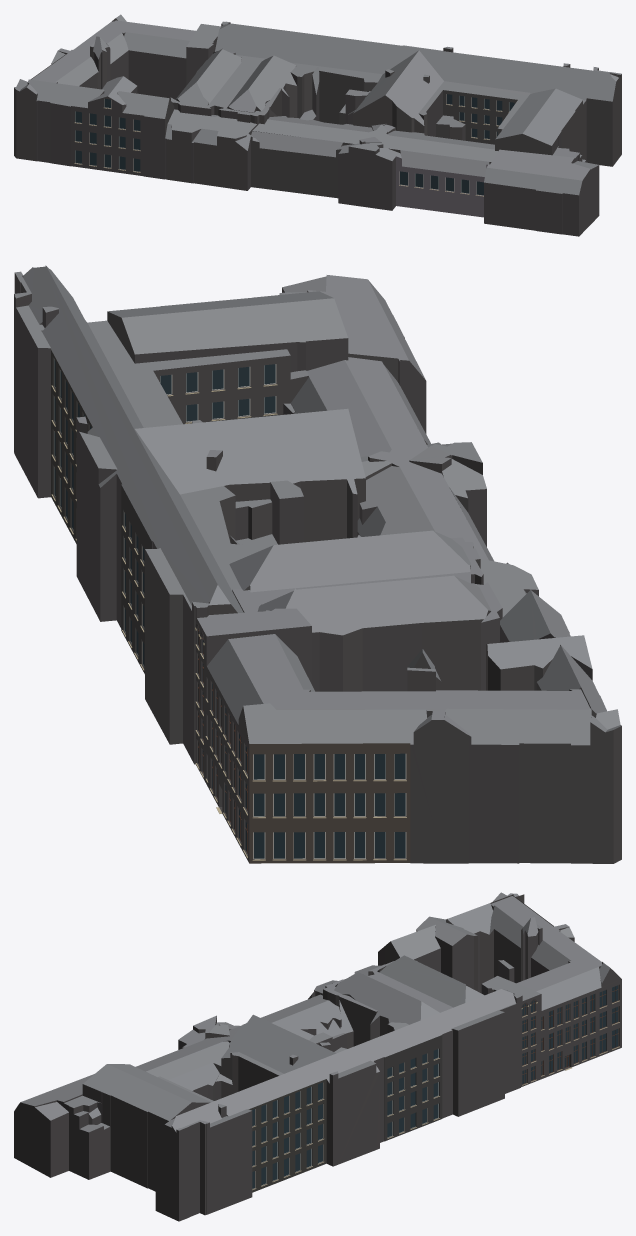
Rendered from recipe-large-pand-165427.glb.
3 views of the same model, one above another, from view 1: azimuth 30°, elevation 25°; view 2: azimuth 150°, elevation 25°; view 3: azimuth 270°, elevation 25° (orthographic). The views are drawn at different scales.
Parts seen in each view (by area): view 1: pand-165427; view 2: pand-165427; view 3: pand-165427.
Boxes of the visible parts, x1,y1,x2,y2 form: pand-165427: (14,14,621,236); pand-165427: (14,265,621,863); pand-165427: (14,892,621,1221).
Size of the model in its own units: 121 by 23.21 by 124.
